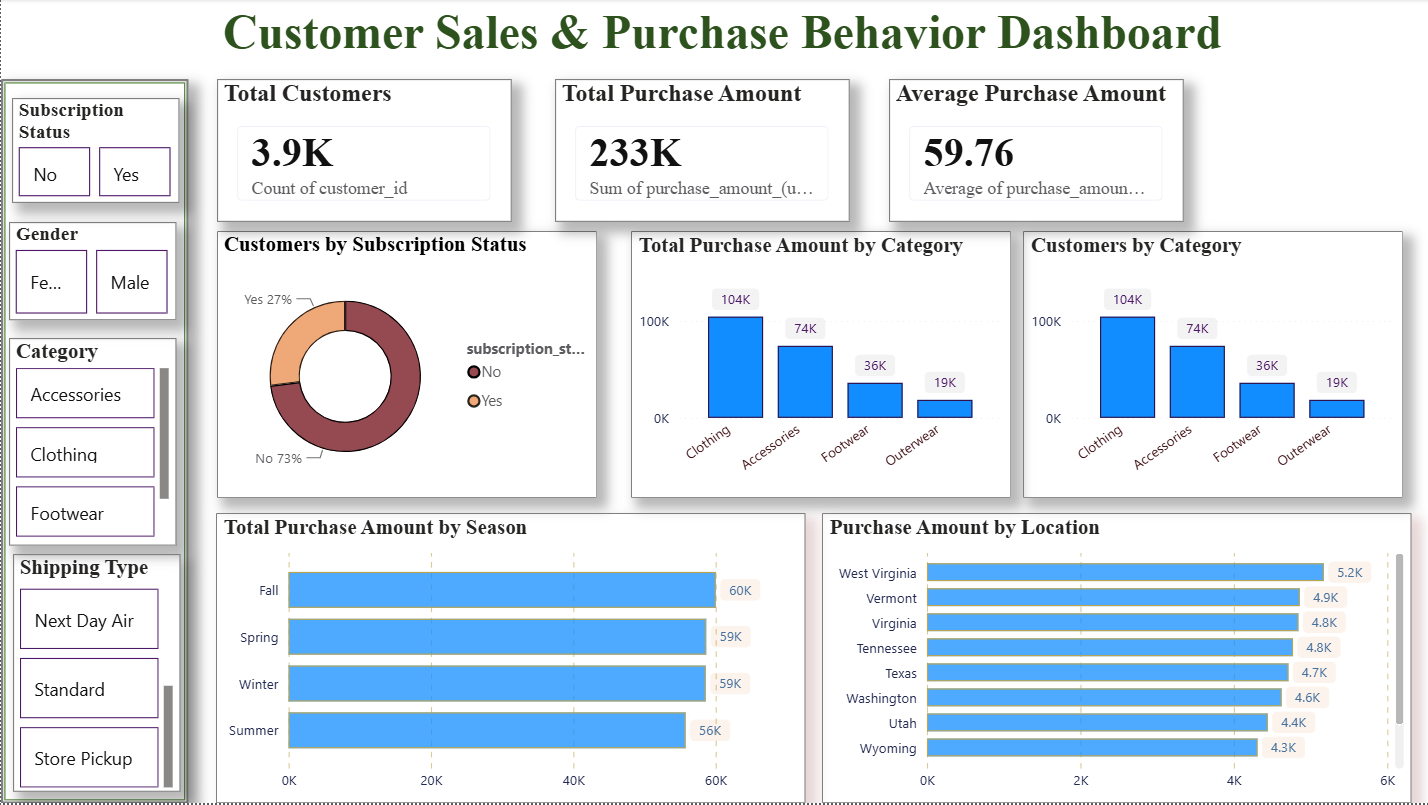

Layout of this report page (visuals, bound fields, positions):
{"tool":"powerbi","page":{"name":"Page 1","canvas":[1280,720],"ordinal":0},"visuals":[{"type":"shape","box":[0,71.3,168,649.1],"z":0},{"type":"donutChart","title":"Customers by Subscription Status","fields":{"Category":["public customer.subscription_status"],"Y":["CountNonNull(public customer.customer_id)"]},"box":[193.4,207.9,339.6,239.3],"z":1000},{"type":"clusteredColumnChart","title":"Total Purchase Amount by Category","fields":{"Category":["public customer.category"],"Y":["Sum(public customer.purchase_amount_(usd))"]},"box":[564.5,207.9,339.6,239.3],"z":2000},{"type":"clusteredColumnChart","title":"Customers by Category","fields":{"Category":["public customer.category"],"Y":["CountNonNull(public customer.customer_id)"]},"box":[915,207.9,339.6,239.3],"z":3000},{"type":"advancedSlicerVisual","title":"Gender","fields":{"Values":["public customer.gender"]},"box":[7.3,199.4,149.9,88.2],"z":4000},{"type":"advancedSlicerVisual","title":"Subscription Status","fields":{"Values":["public customer.subscription_status"]},"box":[9.7,88.2,149.9,94.3],"z":5000},{"type":"advancedSlicerVisual","title":"Category","fields":{"Values":["public customer.category"]},"box":[7.3,303.4,149.9,186.1],"z":6000},{"type":"advancedSlicerVisual","title":"Shipping Type","fields":{"Values":["public customer.shipping_type"]},"box":[10.9,496.8,149.9,212.7],"z":7000},{"type":"clusteredBarChart","title":"Total Purchase Amount by Season","fields":{"Y":["Sum(public customer.purchase_amount_(usd))"],"Category":["public customer.season"]},"box":[192.2,460.5,528.2,259.9],"z":8000},{"type":"clusteredBarChart","title":"Purchase Amount by Location","fields":{"Y":["Sum(public customer.purchase_amount_(usd))"],"Category":["public customer.location"]},"box":[734.9,460.5,528.2,259.9],"z":9000},{"type":"textbox","box":[11.2,0,1268.8,64.5],"z":10000},{"type":"cardVisual","title":"Total Customers","fields":{"Data":["CountNonNull(public customer.customer_id)"]},"box":[193.5,71.5,263.6,127.6],"z":11000},{"type":"cardVisual","title":"Total Purchase Amount","fields":{"Data":["Sum(public customer.purchase_amount_(usd))"]},"box":[496.3,71.5,263.6,127.6],"z":12000},{"type":"cardVisual","title":"Average Purchase Amount","fields":{"Data":["Avg(public customer.purchase_amount_(usd))"]},"box":[794.9,71.5,263.6,127.6],"z":13000}]}

Visuals, with their boxes in screenshot pixels (x1, y1, x2, y2), scaled from the page's 1280x720 canvas onto the 1428x805 screenshot:
shape: pyautogui.locateOnScreen(0, 80, 187, 804)
"Customers by Subscription Status" donutChart: pyautogui.locateOnScreen(216, 232, 595, 500)
"Total Purchase Amount by Category" clusteredColumnChart: pyautogui.locateOnScreen(630, 232, 1009, 500)
"Customers by Category" clusteredColumnChart: pyautogui.locateOnScreen(1021, 232, 1400, 500)
"Gender" advancedSlicerVisual: pyautogui.locateOnScreen(8, 223, 175, 322)
"Subscription Status" advancedSlicerVisual: pyautogui.locateOnScreen(11, 99, 178, 204)
"Category" advancedSlicerVisual: pyautogui.locateOnScreen(8, 339, 175, 547)
"Shipping Type" advancedSlicerVisual: pyautogui.locateOnScreen(12, 555, 179, 793)
"Total Purchase Amount by Season" clusteredBarChart: pyautogui.locateOnScreen(214, 515, 804, 804)
"Purchase Amount by Location" clusteredBarChart: pyautogui.locateOnScreen(820, 515, 1409, 804)
textbox: pyautogui.locateOnScreen(12, 0, 1427, 72)
"Total Customers" cardVisual: pyautogui.locateOnScreen(216, 80, 510, 223)
"Total Purchase Amount" cardVisual: pyautogui.locateOnScreen(554, 80, 848, 223)
"Average Purchase Amount" cardVisual: pyautogui.locateOnScreen(887, 80, 1181, 223)
